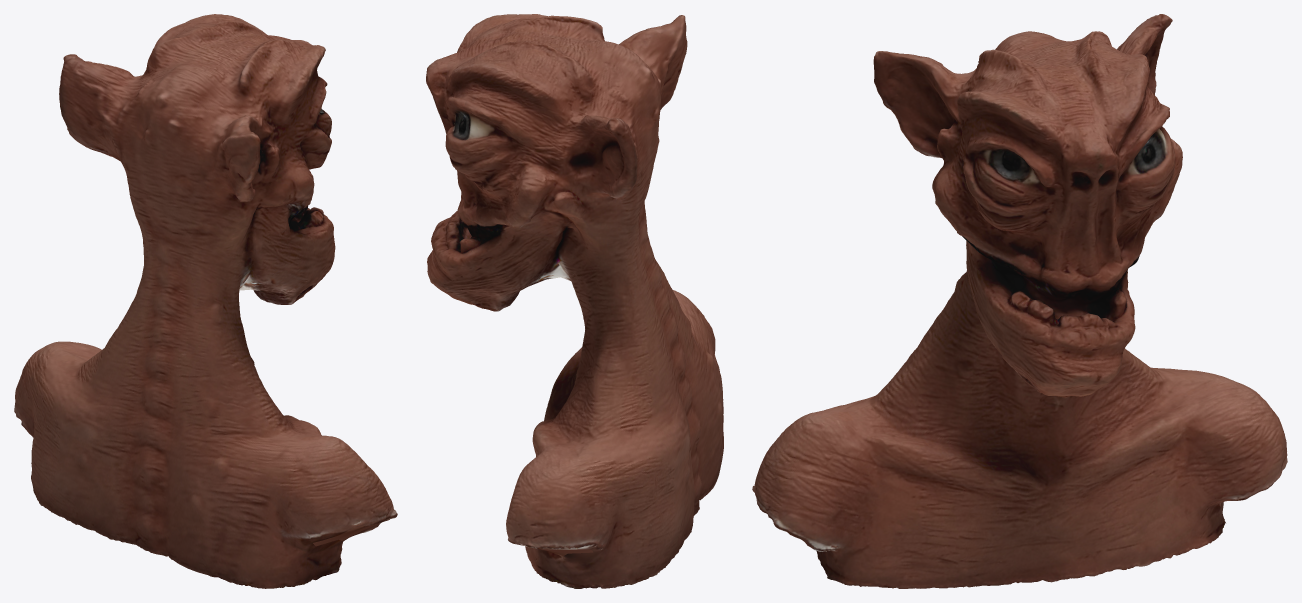
The model's file is objeto1.glb.
The picture shows the model from 3 angles, left to right: view 1: azimuth 30°, elevation 25°; view 2: azimuth 150°, elevation 25°; view 3: azimuth 270°, elevation 25°; orthographic projection. The views are drawn at different scales.
Parts seen in each view (by area): view 1: Object_5, Object_4; view 2: Object_4, Object_5; view 3: Object_4, Object_5.
Part boxes in pixels (x1,y1,x2,y2): Object_5: (14, 41, 397, 588); Object_4: (18, 14, 335, 556); Object_4: (426, 14, 700, 581); Object_5: (427, 14, 723, 588); Object_4: (791, 14, 1258, 582); Object_5: (752, 34, 1287, 588).
Size of the model in its own units: 0.0567 by 0.0982 by 0.0905.
Materials: 1 (1 with a texture image).
